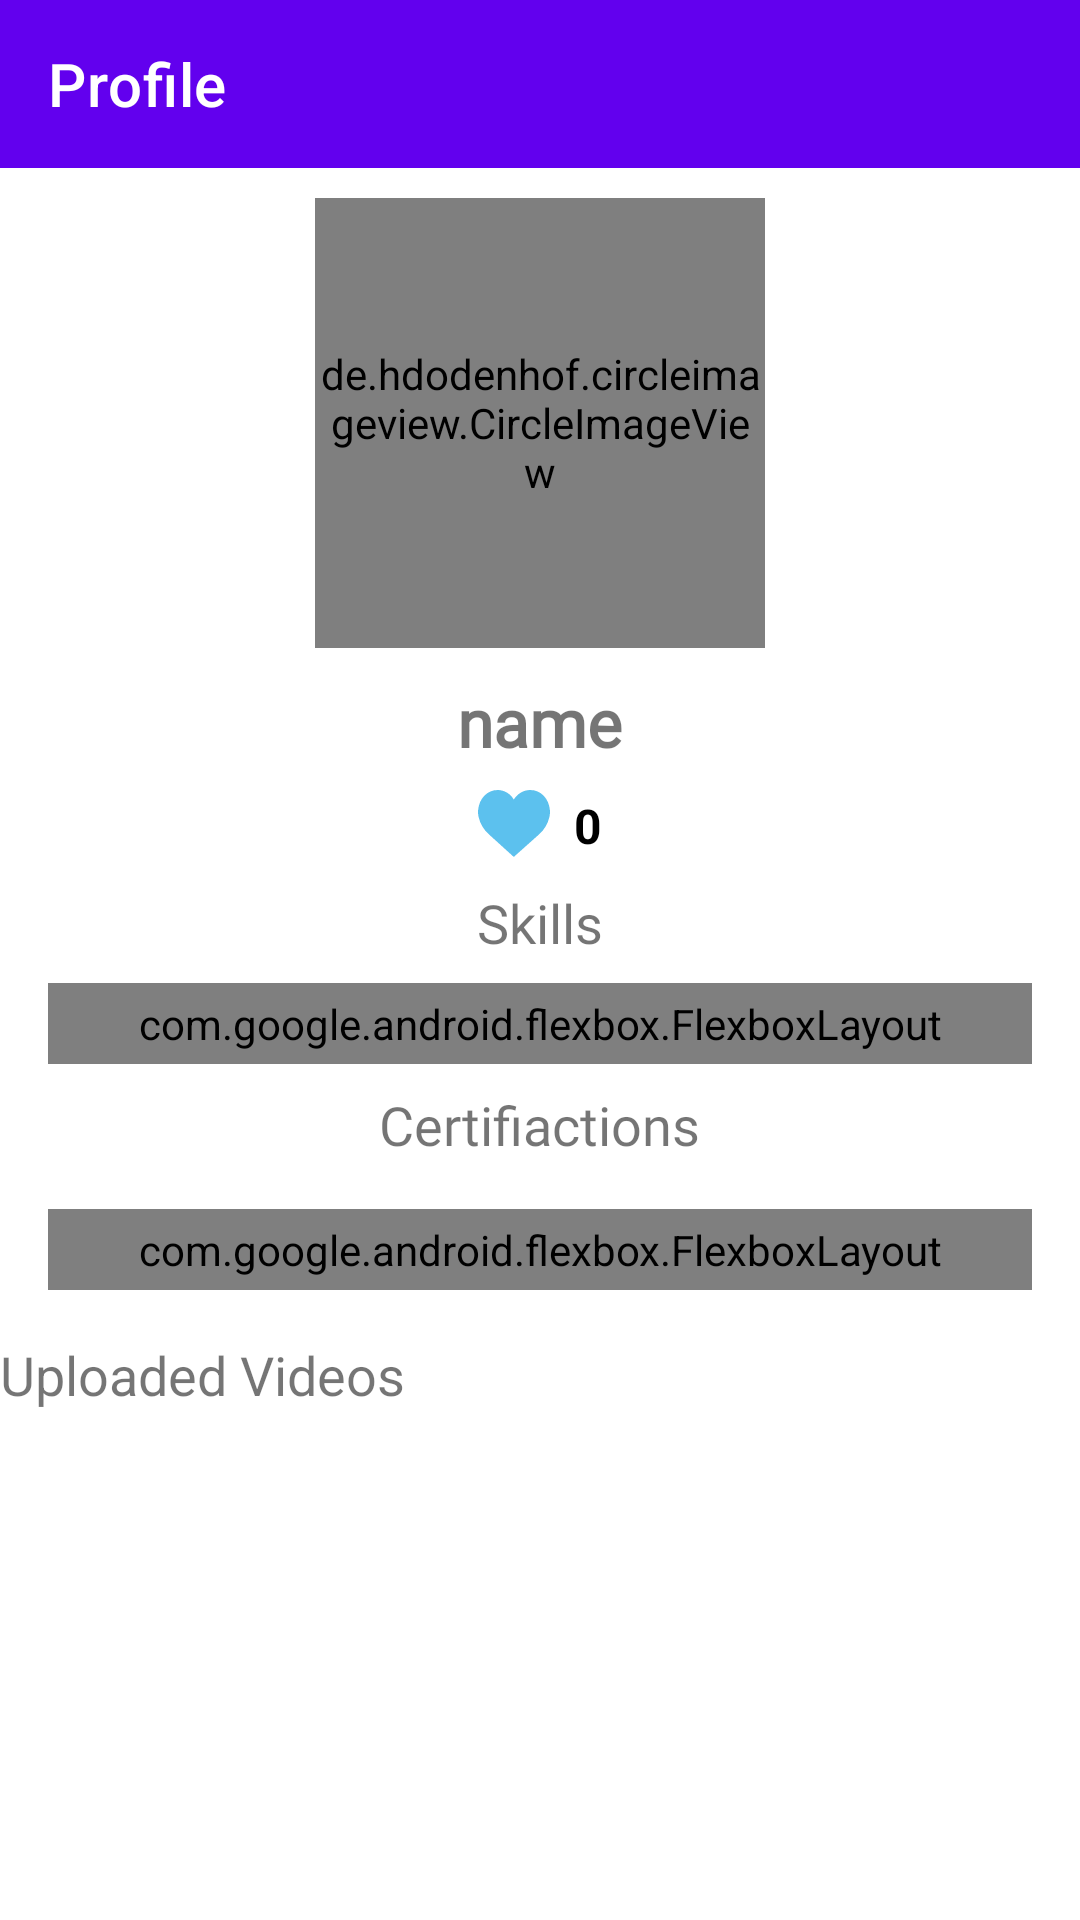

Locate icon controls on the screen. Image size 1080×1920, boxes as region(x1, y1, x2, y2).
Like icon: region(478, 790, 550, 857)
